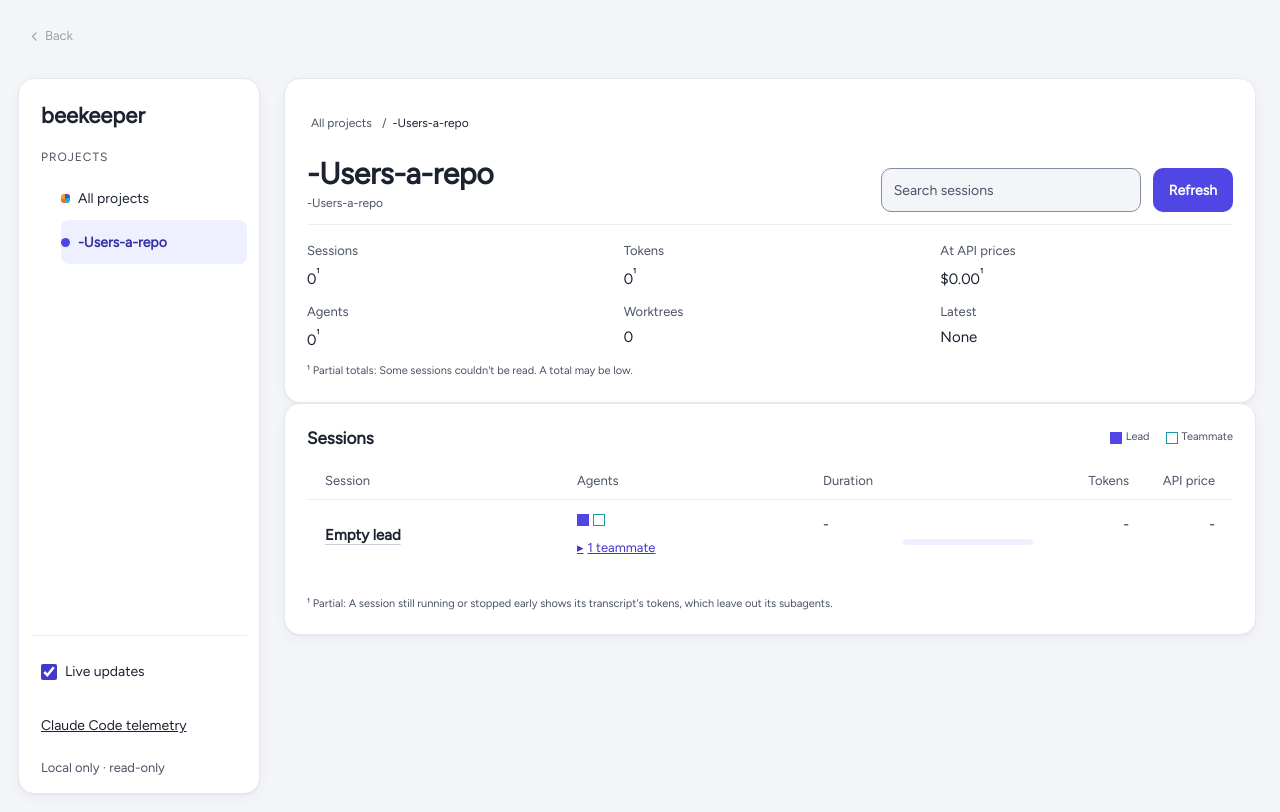
Test: session cards: partial figures › for a lead that shows no figures › still explains a teammate row's own marker
Click the button "▸ 1 teammate" at (616, 548), box [577,526,656,570]
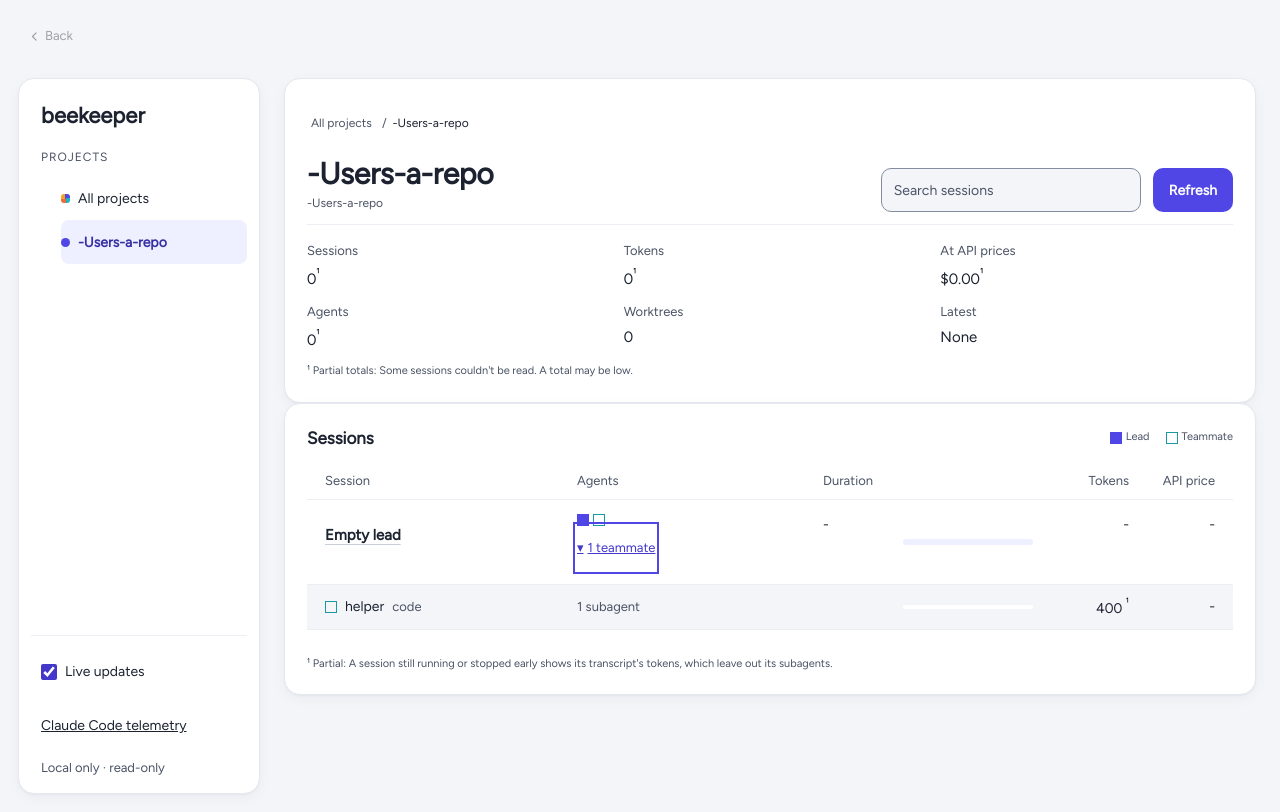
expect the 5th text "¹" is shown: met, box [1126,596,1129,610]
